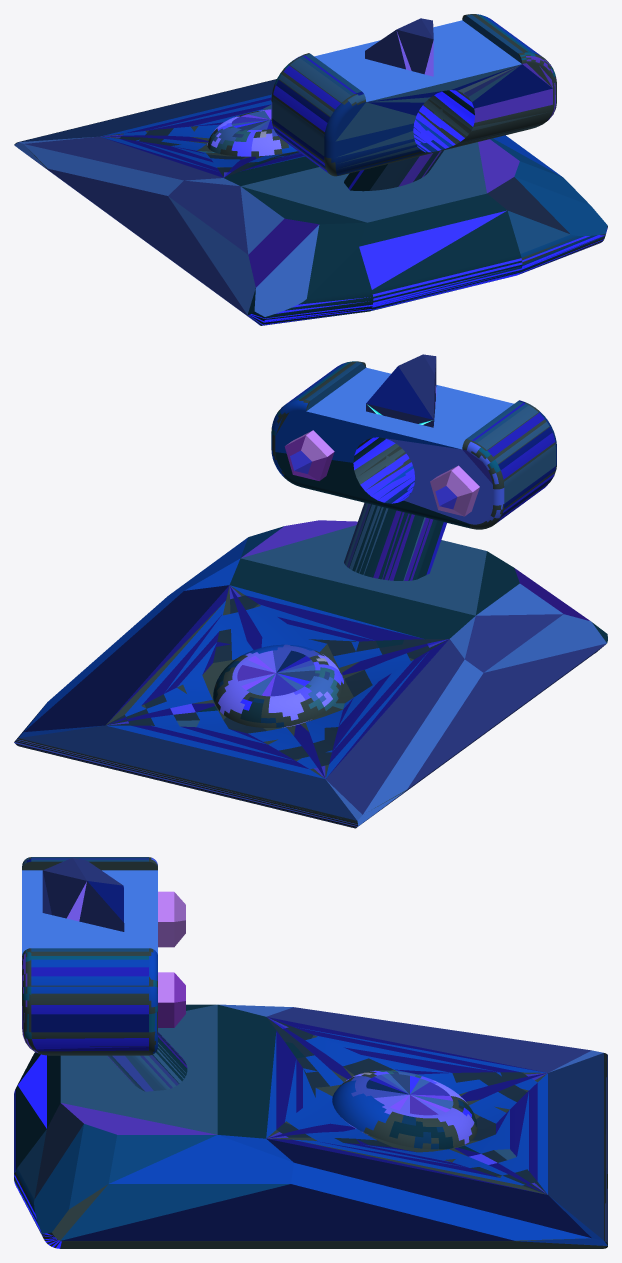
The model's file is HovertankB.glb.
3 renders of one model, top to bottom at view 1: azimuth 30°, elevation 25°; view 2: azimuth 150°, elevation 25°; view 3: azimuth 270°, elevation 25°, orthographic. The views are drawn at different scales.
Visible parts, largest first — view 1: Body; view 2: Body; view 3: Body.
Boxes of the visible parts, bbox=[...] form: Body: bbox=[14, 14, 607, 325]; Body: bbox=[14, 354, 607, 828]; Body: bbox=[14, 857, 607, 1248].
Bounding box in the file's own units: 6 × 4.18 × 7.56.
1 material, 1 textured.
